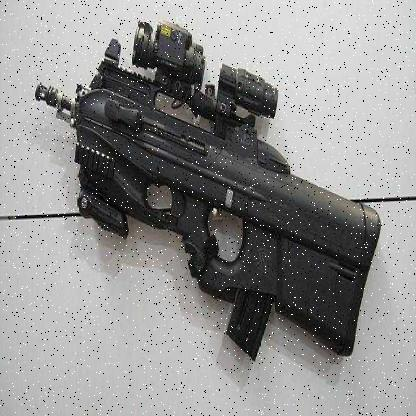rifle: (28, 23, 389, 368)
